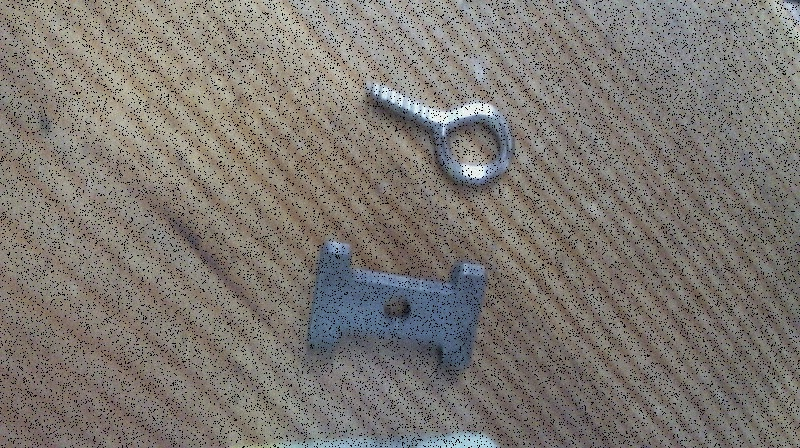O001: (352, 75, 523, 189)
O002: (300, 238, 491, 375)
